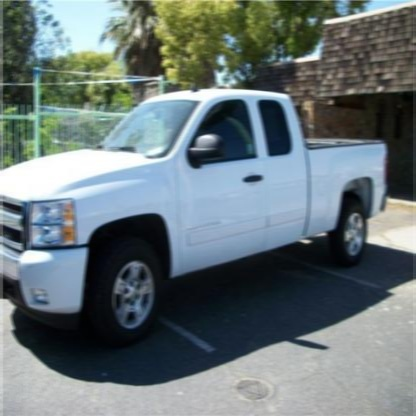Vehicle: (1, 87, 390, 353)
